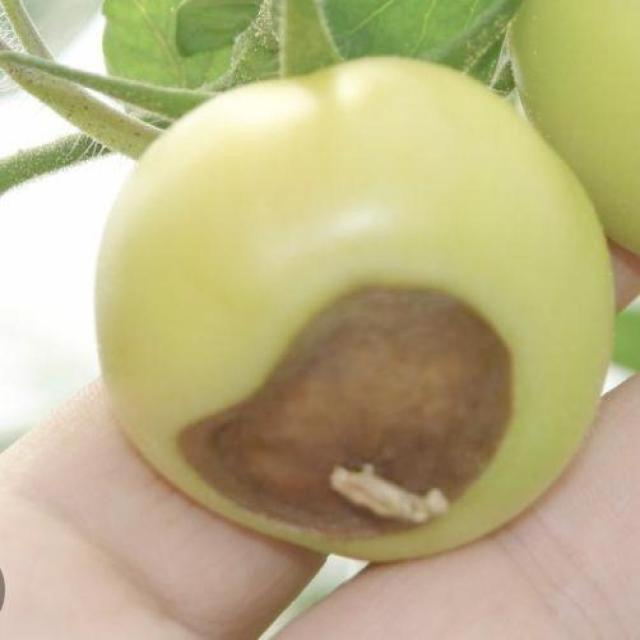Blossom End Rot Fruit: (113, 182, 345, 359)
